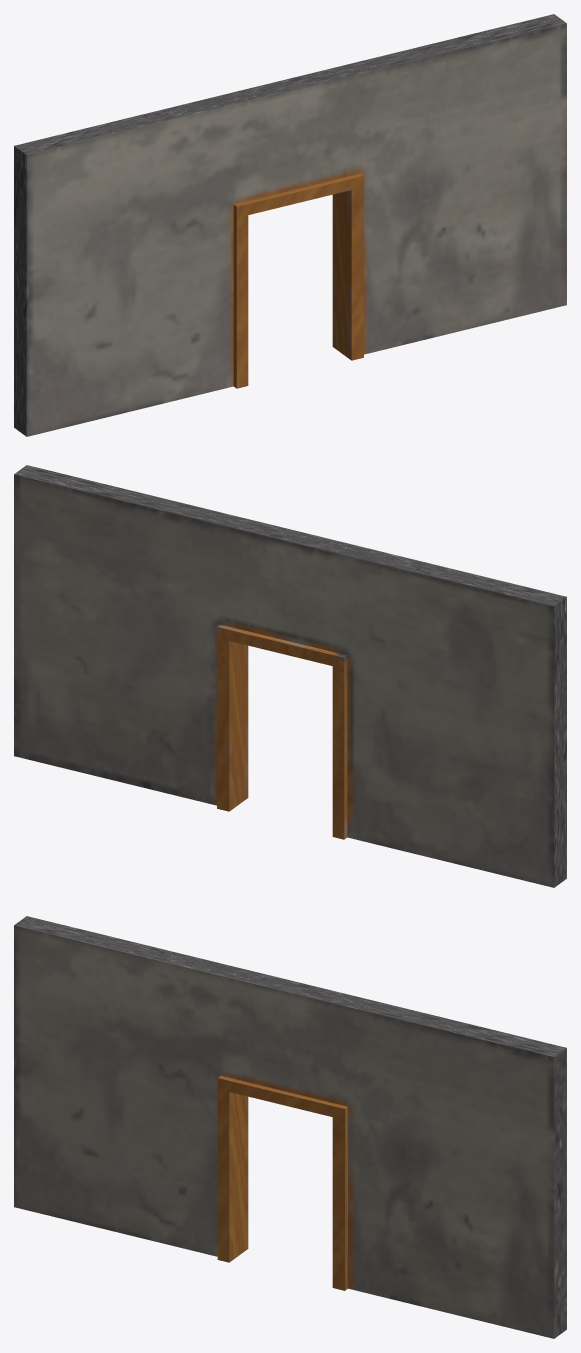
File: Door_External_Wall.fbx
3 renders of one model, top to bottom at view 1: azimuth 30°, elevation 25°; view 2: azimuth 150°, elevation 25°; view 3: azimuth 330°, elevation 25°, orthographic.
Parts seen in each view (by area): view 1: Door_External_Wall.; view 2: Door_External_Wall.; view 3: Door_External_Wall..
Boxes of the visible parts, left/top/right/bottom form: Door_External_Wall.: left=14, top=14, right=566, bottom=436; Door_External_Wall.: left=14, top=465, right=566, bottom=887; Door_External_Wall.: left=14, top=916, right=566, bottom=1338.
Size of the model in its own units: 401 by 200 by 24.48.
